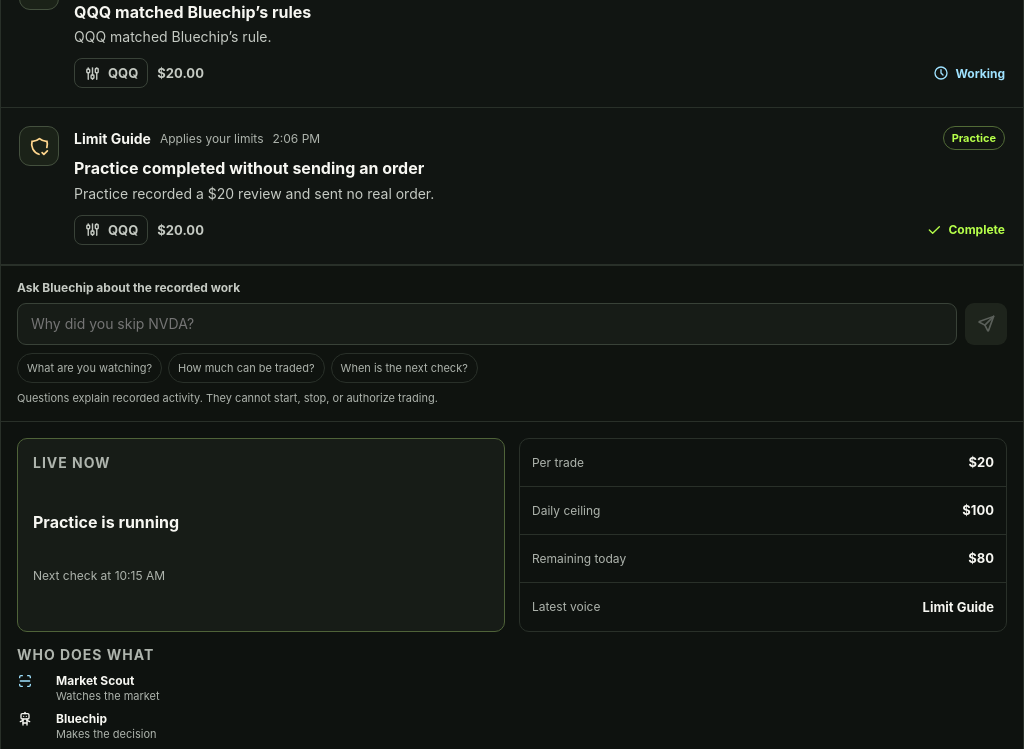
Test case: Trading Room interface › answers questions from recorded state without exposing a trading action
(page scrolled)
Step 1. Click the button "How much can be traded?" → x=246, y=368, box left=168, top=353, right=324, bottom=383
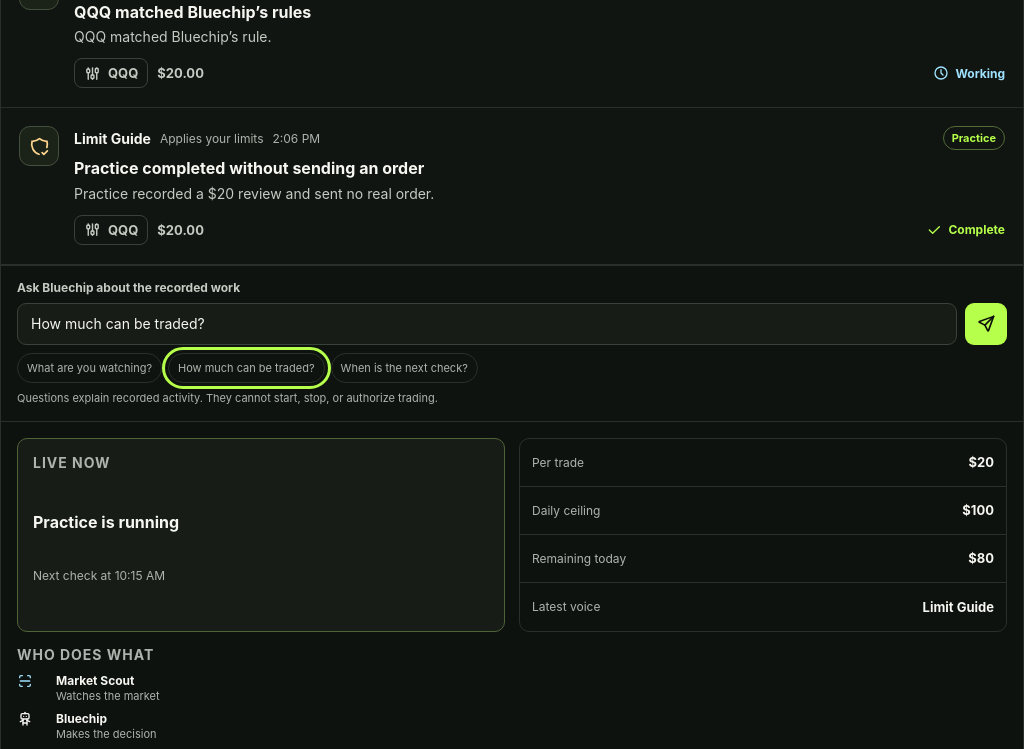
Step 2. Click the button named "Ask Bluechip" → x=986, y=324, box left=965, top=303, right=1007, bottom=345
(page scrolled)
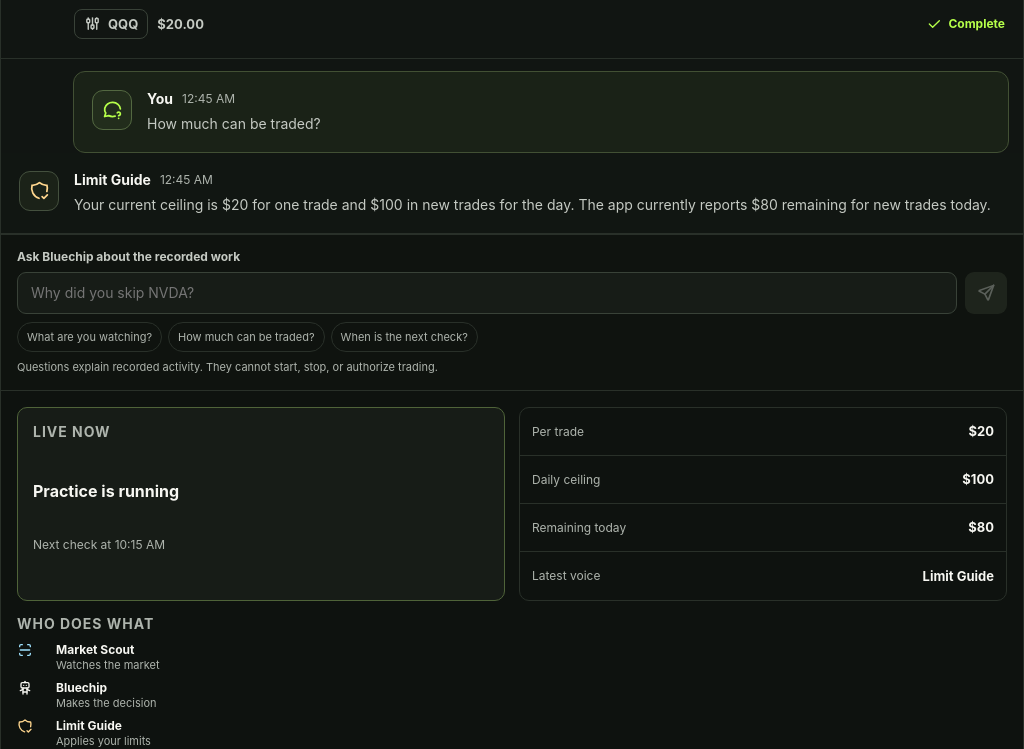
expect the text "cannot start, stop, or authorize trading" is shown: met, box left=17, top=360, right=438, bottom=374
expect the text "How much can be traded?" is shown: met, box left=147, top=115, right=321, bottom=132
expect the text "Your current ceiling is $20 for one trade and $100 in new trades for the day. The app currently reports $80 remaining fo" is shown: met, box left=74, top=196, right=991, bottom=213
